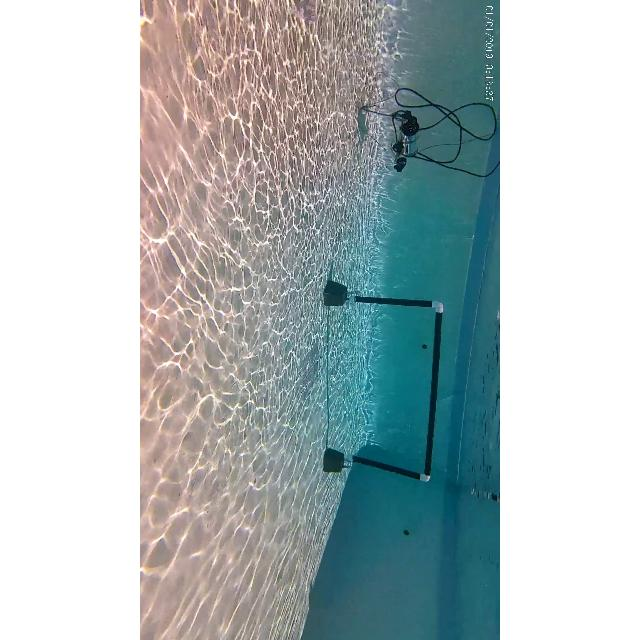prequal gate: (348, 294, 444, 482)
prequal gate leg l: (346, 296, 444, 318)
prequal gate leg r: (346, 450, 434, 488)
